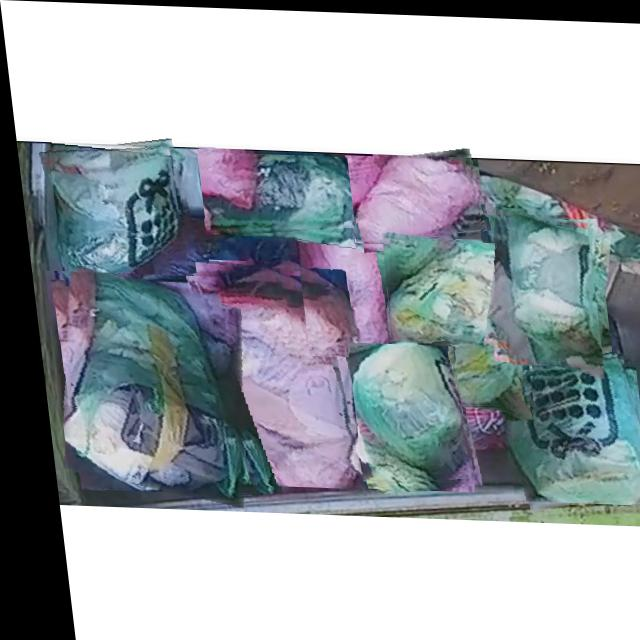general_trashbag: (54, 272, 234, 494), (382, 239, 516, 402), (499, 352, 637, 499), (46, 146, 176, 282), (344, 341, 459, 478), (495, 208, 594, 361), (200, 152, 348, 229)
other_trashbag: (193, 263, 345, 486), (290, 176, 390, 356), (349, 153, 473, 241)
